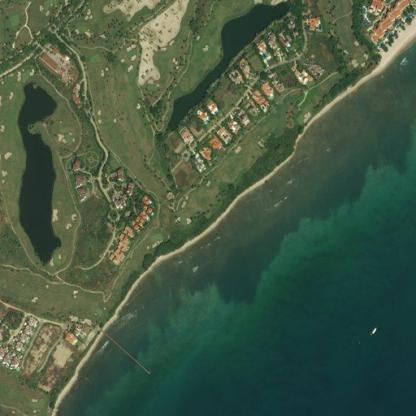ship: (365, 321, 383, 340)
